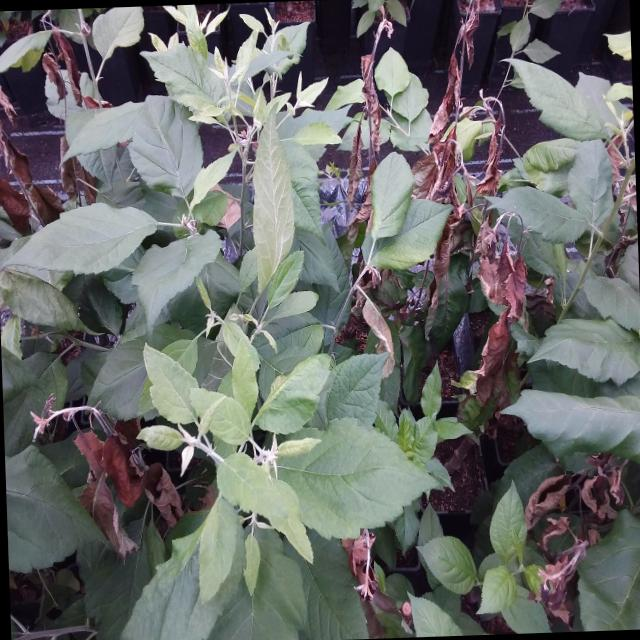-FireBlight-: (401, 0, 470, 311), (524, 443, 624, 631), (73, 423, 186, 560), (471, 223, 527, 396), (0, 89, 64, 235), (341, 52, 379, 232), (43, 24, 119, 109), (340, 263, 393, 380), (345, 526, 395, 614), (470, 118, 507, 194)
